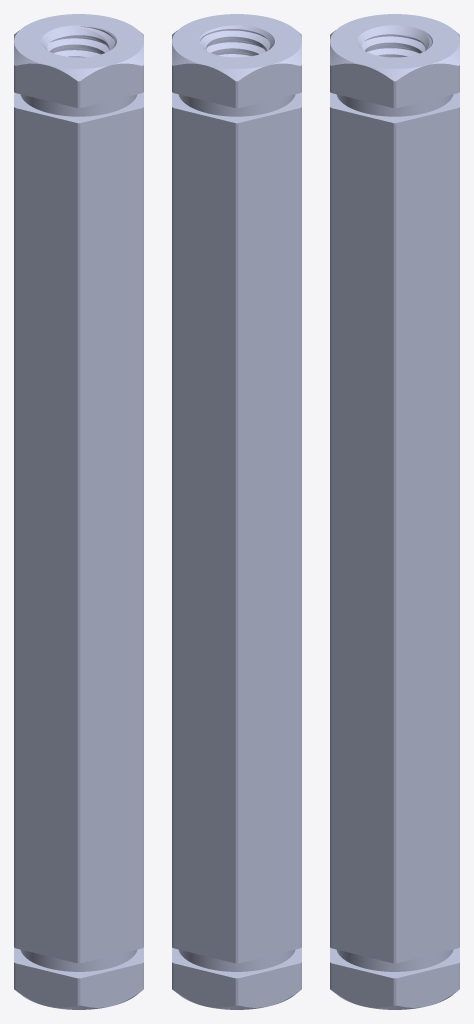
File: 1516-4008-0560-Boss-Extrude2.obj
3 views of the same model, side by side, from view 1: azimuth 30°, elevation 25°; view 2: azimuth 150°, elevation 25°; view 3: azimuth 330°, elevation 25° (orthographic).
Parts seen in each view (by area): view 1: mesh83, mesh93, mesh61, mesh94, mesh65, mesh76, mesh99, mesh108, mesh84, mesh92, mesh96, mesh81 (+5 smaller); view 2: mesh89, mesh91, mesh61, mesh90, mesh71, mesh74, mesh101, mesh103, mesh88, mesh92, mesh96, mesh81 (+4 smaller); view 3: mesh83, mesh85, mesh61, mesh84, mesh64, mesh65, mesh107, mesh108, mesh86, mesh94, mesh96, mesh81 (+5 smaller).
Part boxes in pixels (bbox=[...]): mesh83: bbox=[80, 108, 142, 963]; mesh93: bbox=[15, 108, 77, 963]; mesh61: bbox=[14, 14, 143, 68]; mesh94: bbox=[77, 123, 80, 963]; mesh65: bbox=[80, 63, 142, 107]; mesh76: bbox=[15, 63, 77, 107]; mesh99: bbox=[15, 963, 77, 1007]; mesh108: bbox=[80, 963, 142, 1007]; mesh84: bbox=[142, 107, 143, 947]; mesh92: bbox=[14, 107, 15, 947]; mesh96: bbox=[20, 949, 137, 971]; mesh81: bbox=[20, 94, 137, 116]; mesh89: bbox=[173, 108, 235, 963]; mesh91: bbox=[238, 108, 300, 963]; mesh61: bbox=[172, 14, 301, 68]; mesh90: bbox=[235, 123, 238, 963]; mesh71: bbox=[173, 63, 235, 107]; mesh74: bbox=[238, 63, 300, 107]; mesh101: bbox=[238, 963, 300, 1007]; mesh103: bbox=[173, 963, 235, 1007]; mesh88: bbox=[172, 107, 173, 947]; mesh92: bbox=[300, 107, 301, 947]; mesh96: bbox=[178, 949, 295, 971]; mesh81: bbox=[178, 94, 295, 116]; mesh83: bbox=[331, 108, 393, 963]; mesh85: bbox=[396, 108, 458, 963]; mesh61: bbox=[330, 14, 459, 68]; mesh84: bbox=[393, 123, 396, 963]; mesh64: bbox=[396, 63, 458, 107]; mesh65: bbox=[331, 63, 393, 107]; mesh107: bbox=[396, 963, 458, 1007]; mesh108: bbox=[331, 963, 393, 1007]; mesh86: bbox=[458, 107, 459, 947]; mesh94: bbox=[330, 107, 331, 947]; mesh96: bbox=[336, 949, 453, 971]; mesh81: bbox=[336, 94, 453, 116].
Size of the model in its own units: 0.008 by 0.056 by 0.007.
